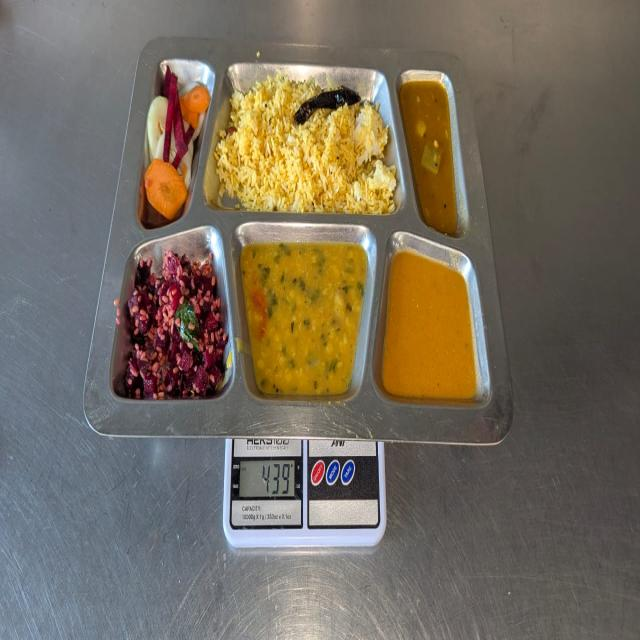Dal: (237, 230, 372, 411)
Paneer Curry: (382, 253, 482, 406)
Pulao: (218, 70, 400, 223)
Salad: (116, 239, 228, 406), (140, 59, 212, 217)
Sambhar: (402, 68, 469, 238)
